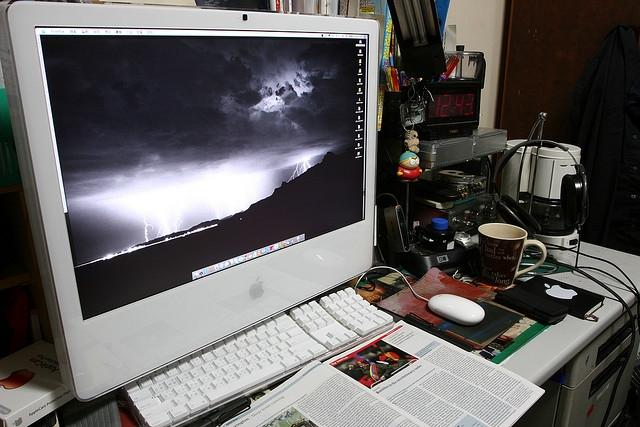apple: (546, 285, 577, 299), (249, 276, 264, 300)
